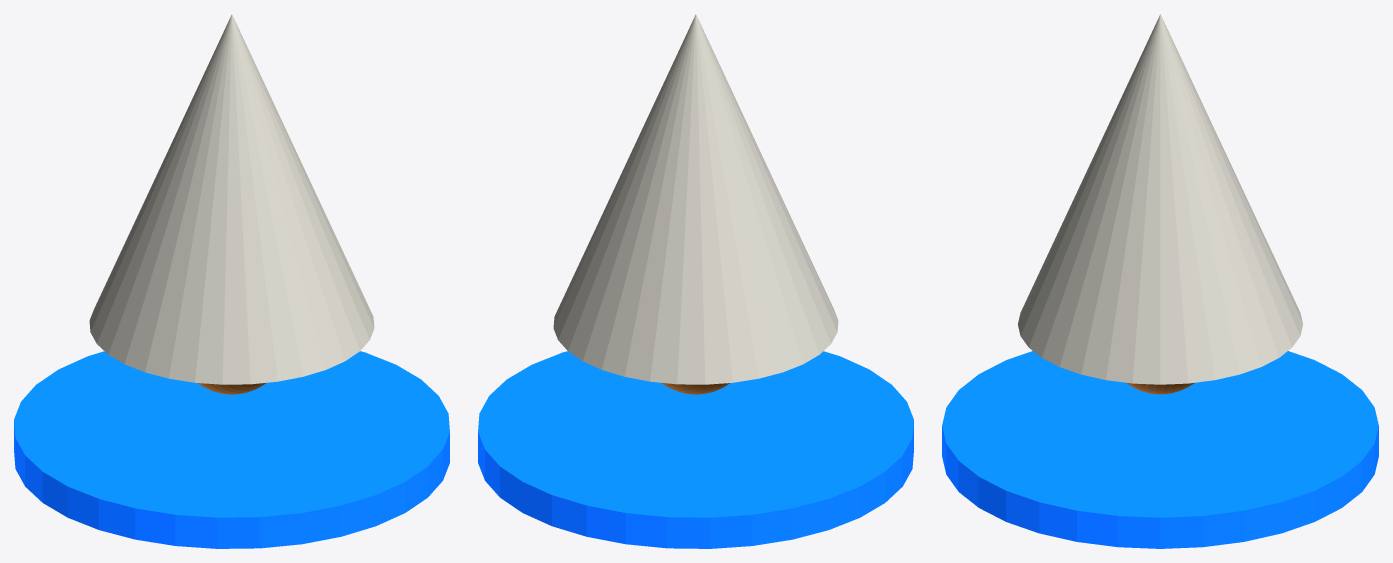
The model's file is sports_shuttlecock.dae.
The picture shows the model from 3 angles, left to right: view 1: azimuth 30°, elevation 25°; view 2: azimuth 150°, elevation 25°; view 3: azimuth 270°, elevation 25°; orthographic projection.
Visible parts, largest first — view 1: 04_10_Popular_Sports_Shuttlecock_ROOT_base, 04_10_Popular_Sports_Shuttlecock_part_01; view 2: 04_10_Popular_Sports_Shuttlecock_ROOT_base, 04_10_Popular_Sports_Shuttlecock_part_01; view 3: 04_10_Popular_Sports_Shuttlecock_ROOT_base, 04_10_Popular_Sports_Shuttlecock_part_01.
Part boxes in pixels (x1=…): 04_10_Popular_Sports_Shuttlecock_ROOT_base: x1=14, y1=351, x2=449, y2=548; 04_10_Popular_Sports_Shuttlecock_part_01: x1=89, y1=14, x2=374, y2=384; 04_10_Popular_Sports_Shuttlecock_ROOT_base: x1=478, y1=351, x2=913, y2=548; 04_10_Popular_Sports_Shuttlecock_part_01: x1=553, y1=14, x2=838, y2=384; 04_10_Popular_Sports_Shuttlecock_ROOT_base: x1=942, y1=351, x2=1378, y2=548; 04_10_Popular_Sports_Shuttlecock_part_01: x1=1018, y1=14, x2=1302, y2=384.
Size of the model in its own units: 0.76 by 0.85 by 0.76.
